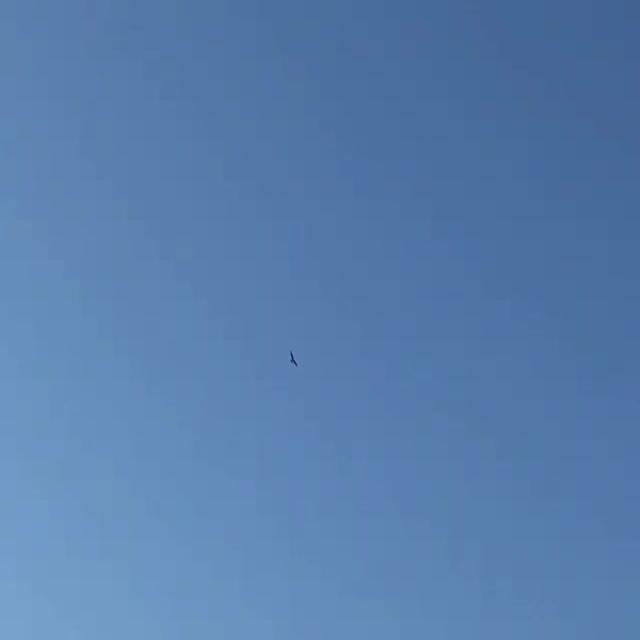bird: (284, 349, 304, 368)
